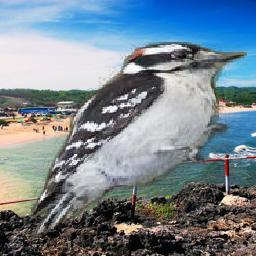Woodpecker: (31, 43, 247, 240)
